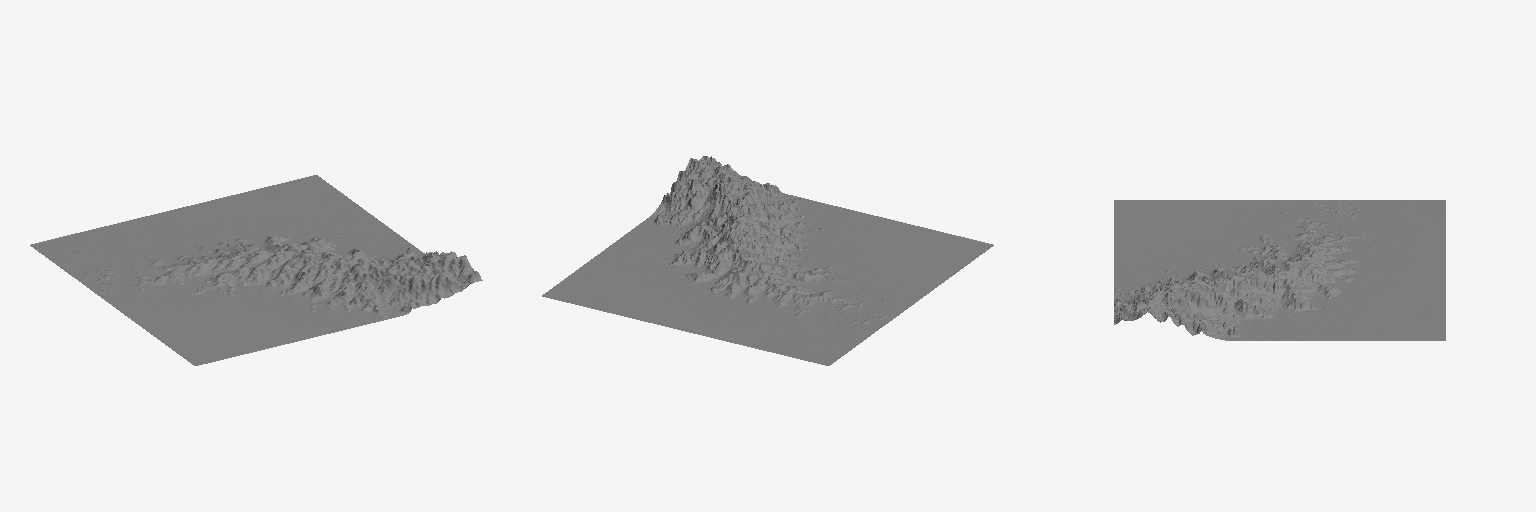
The model's file is Terrain_50000.obj.
3 views of the same model, side by side, from view 1: azimuth 30°, elevation 25°; view 2: azimuth 150°, elevation 25°; view 3: azimuth 270°, elevation 25° (orthographic).
Visible parts, largest first — view 1: default; view 2: default; view 3: default.
Part boxes in pixels (left/top/right/bottom): default: left=30, top=175, right=482, bottom=365; default: left=542, top=156, right=993, bottom=365; default: left=1114, top=200, right=1445, bottom=340.
Bounding box in the file's own units: 5000 × 485 × 5000.